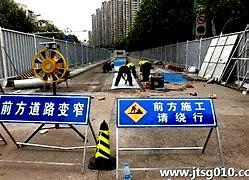sign: (118, 99, 215, 127), (1, 95, 86, 123)
